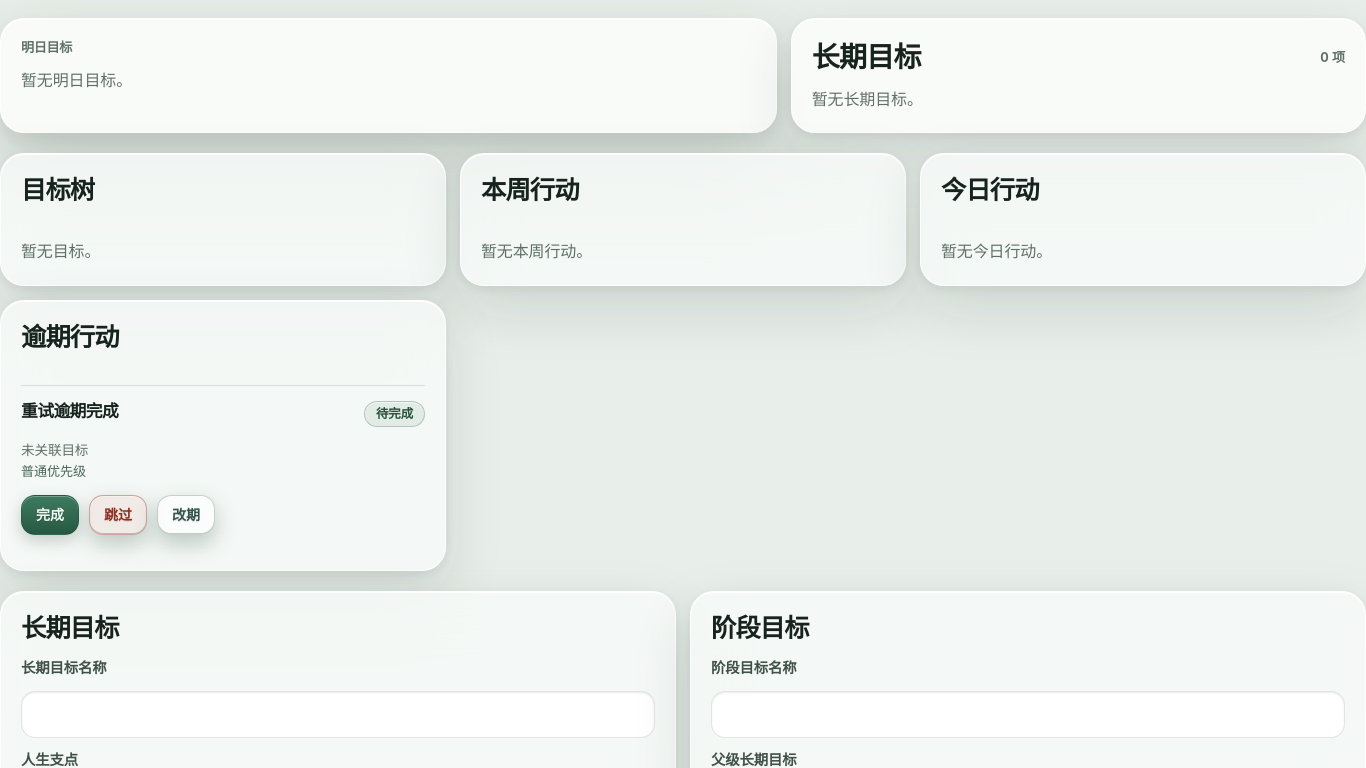
Test: PlanningWorkspace › settles a same-key retry when an overdue completion disappears
Click the button with aria-label "完成：重试逾期完成": (50, 515) [21,495,79,535]
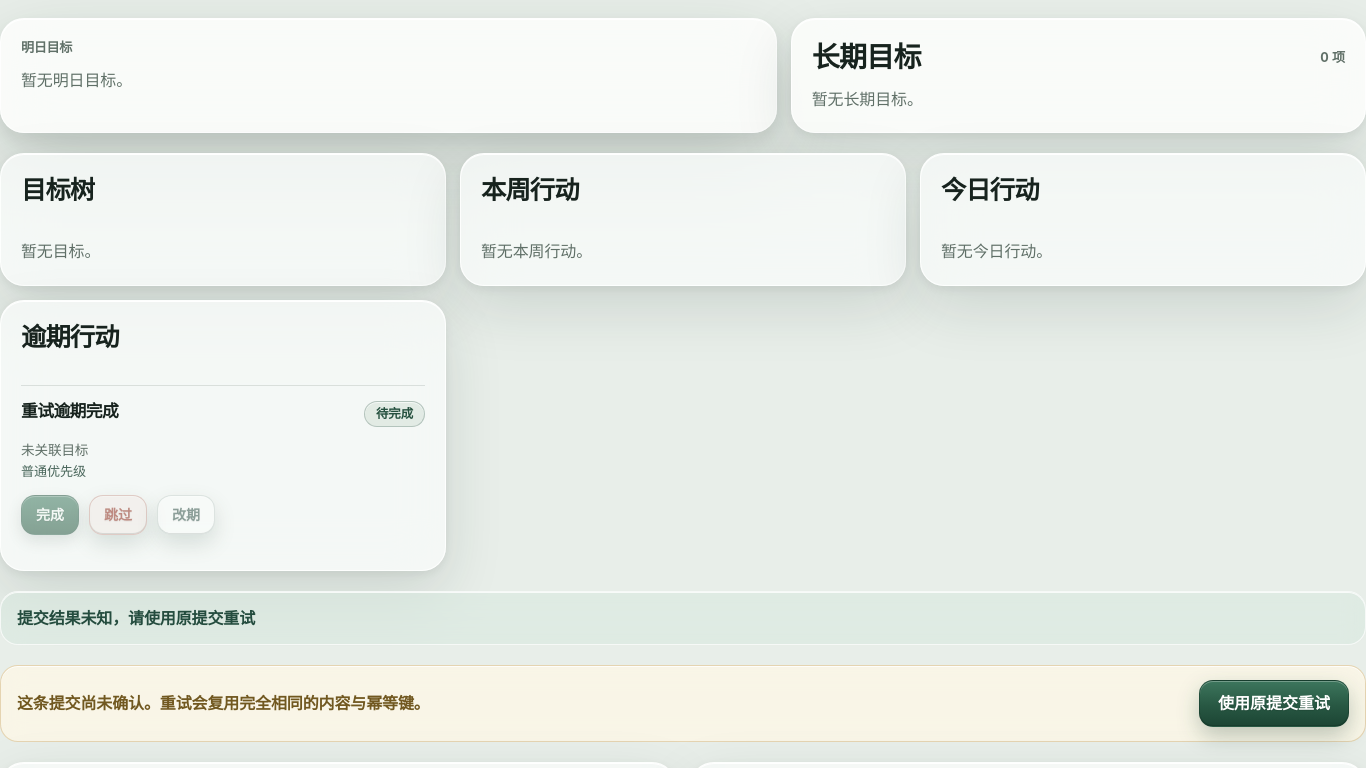
Click the button "使用原提交重试": (1274, 704) [1199,680,1349,727]
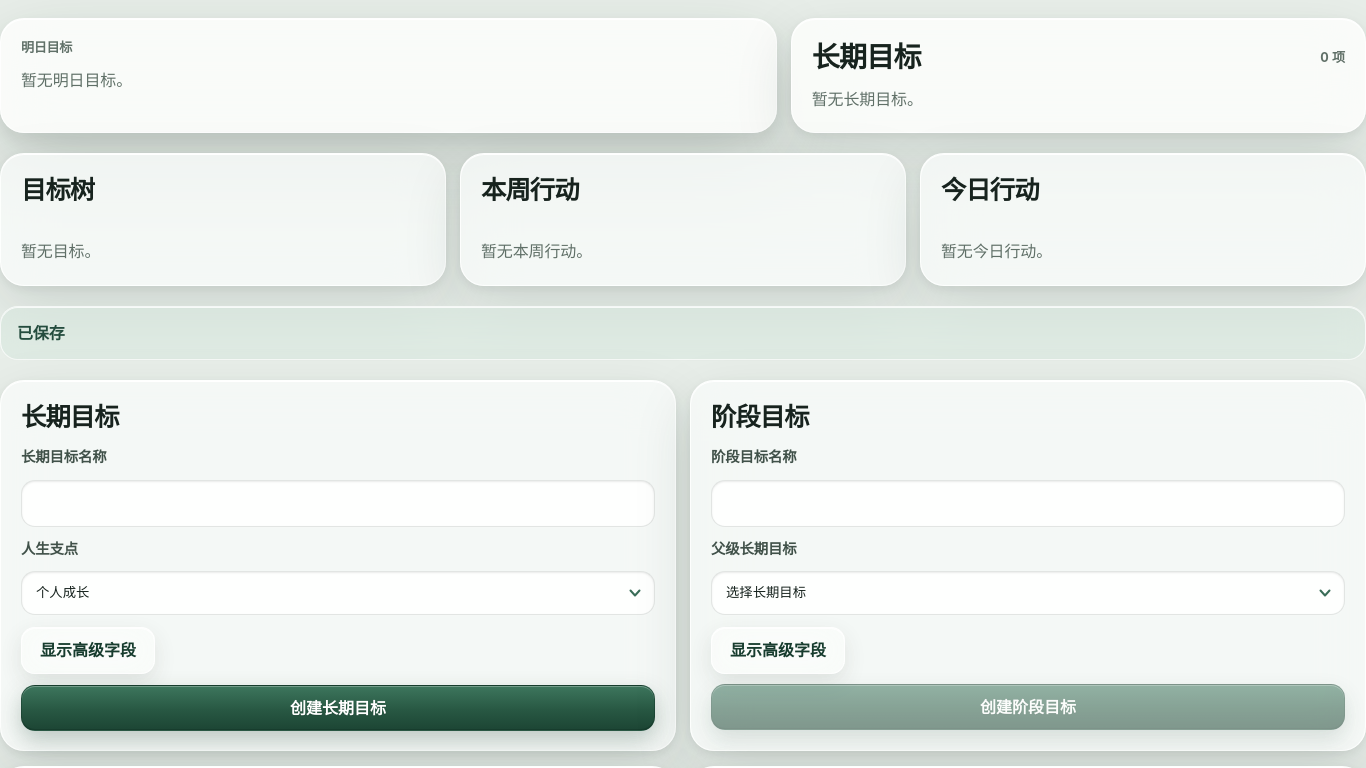
Expected: the text "已保存" is shown, [0,306,1365,360]
Expected: the message "使用原提交重试" is gone
